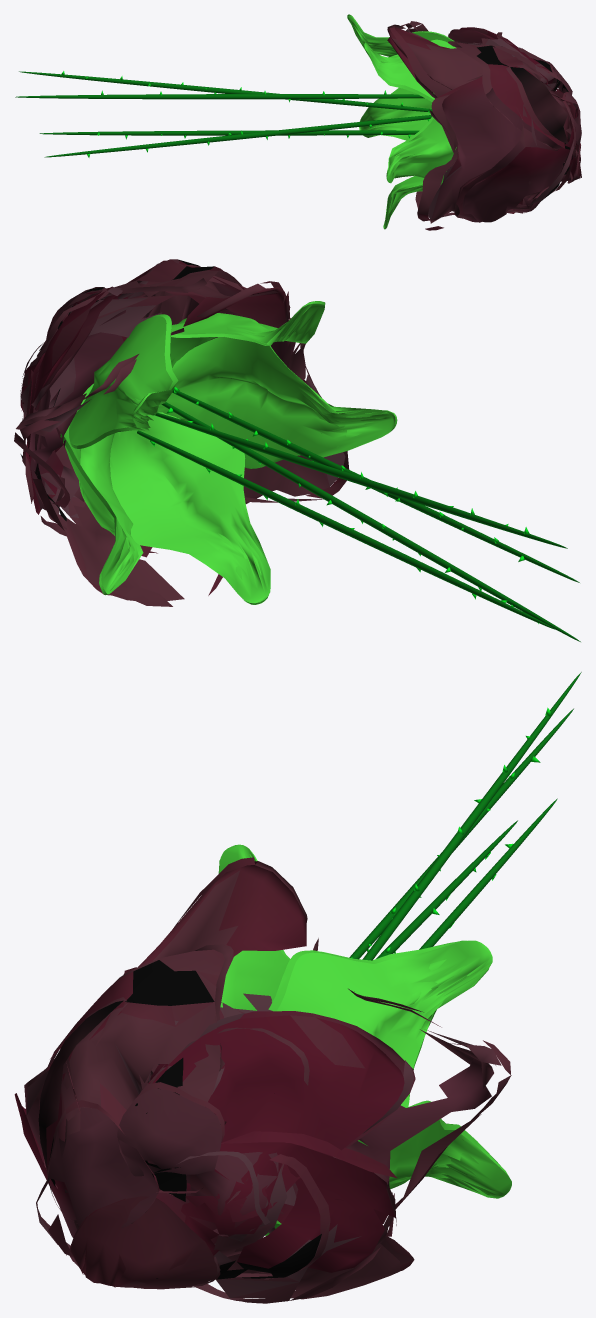
File: Qualle_Static_e04.fbx
The picture shows the model from 3 angles, top to bottom: view 1: azimuth 30°, elevation 25°; view 2: azimuth 150°, elevation 25°; view 3: azimuth 270°, elevation 25°; orthographic projection. The views are drawn at different scales.
Parts seen in each view (by area): view 1: Blume; view 2: Blume; view 3: Blume.
Part boxes in pixels (x1,y1,x2,y2): Blume: (15,14,581,230); Blume: (14,259,580,641); Blume: (14,672,581,1303).
Bounding box in the file's own units: 746 × 332 × 431.
